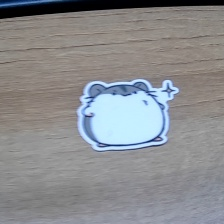mouse: (75, 75, 181, 155)
